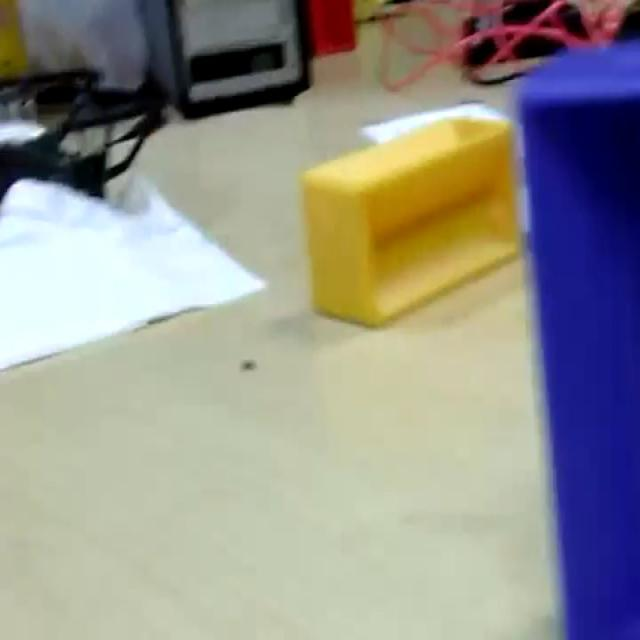blue_block: (514, 36, 638, 636)
yellow_block: (300, 102, 519, 326)
